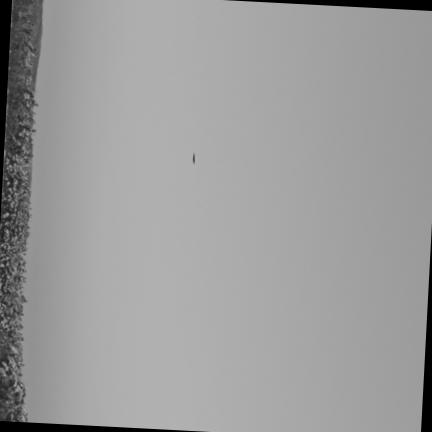Shahed: (192, 155, 194, 163)
